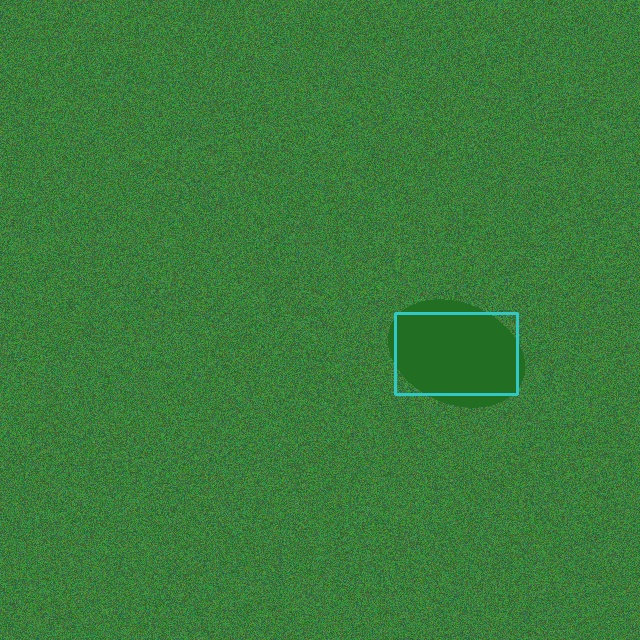army worm: (385, 303, 527, 404)
